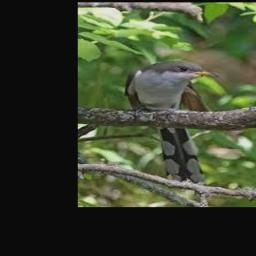Cuckoo: (124, 60, 220, 184)
